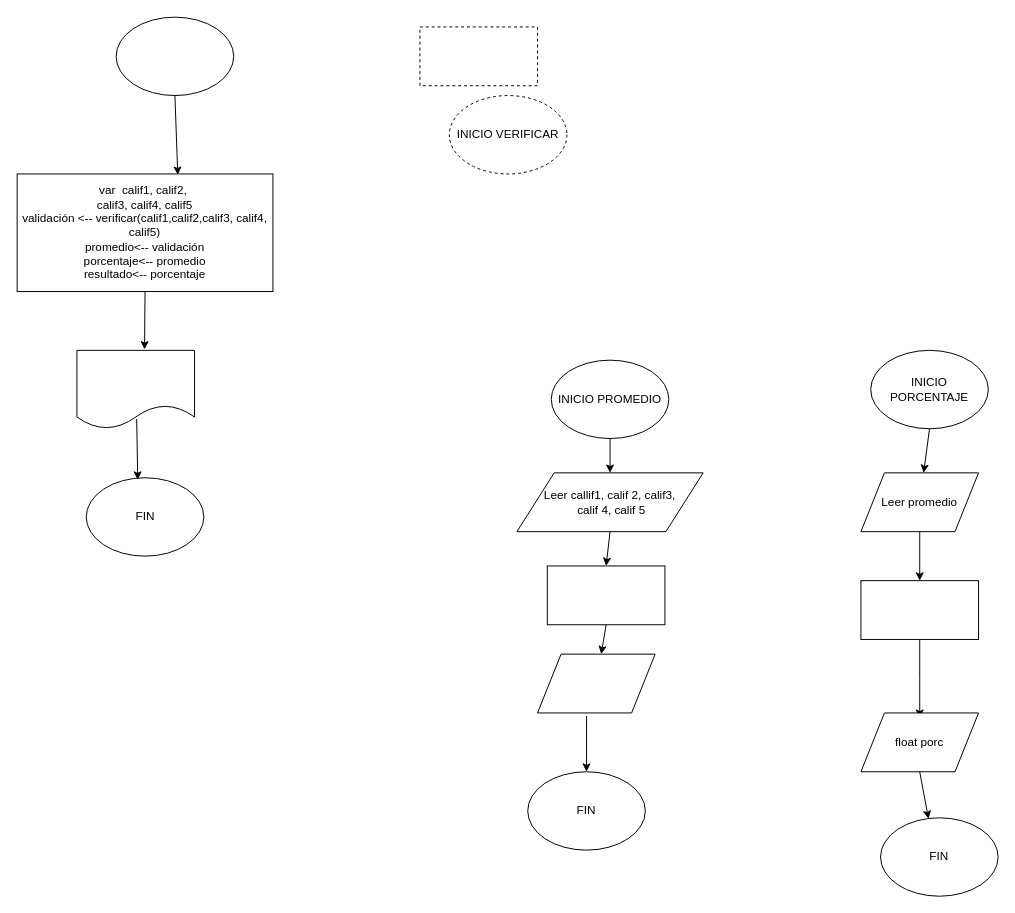
Some shapes in this 1015 by 913 pixel diagram are drawn without their labels. Here are the shapes that lost their labels. From the top down, the centre of each, then its label:
the point at 174,56: INICIO
the point at 135,389: Imprimir resultados
the point at 605,595: promedio= (calif1, calif2, calif3, calif4, calif5) / 5
the point at 919,609: porc= promedio * 10
the point at 596,683: float(promedio)
